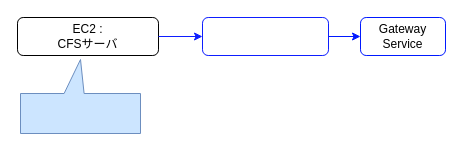
Some shapes in this 463 by 151 pixel diagram are drawn without their labels. The shapes that lost their labels are listed below. From the top down, each one's centre as x and y in pixels, then its label:
At pixel 265 36: "Routing Engine".
At pixel 80 96: "cli による運用 操作".
